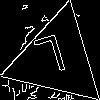L: (31, 33, 71, 86)
